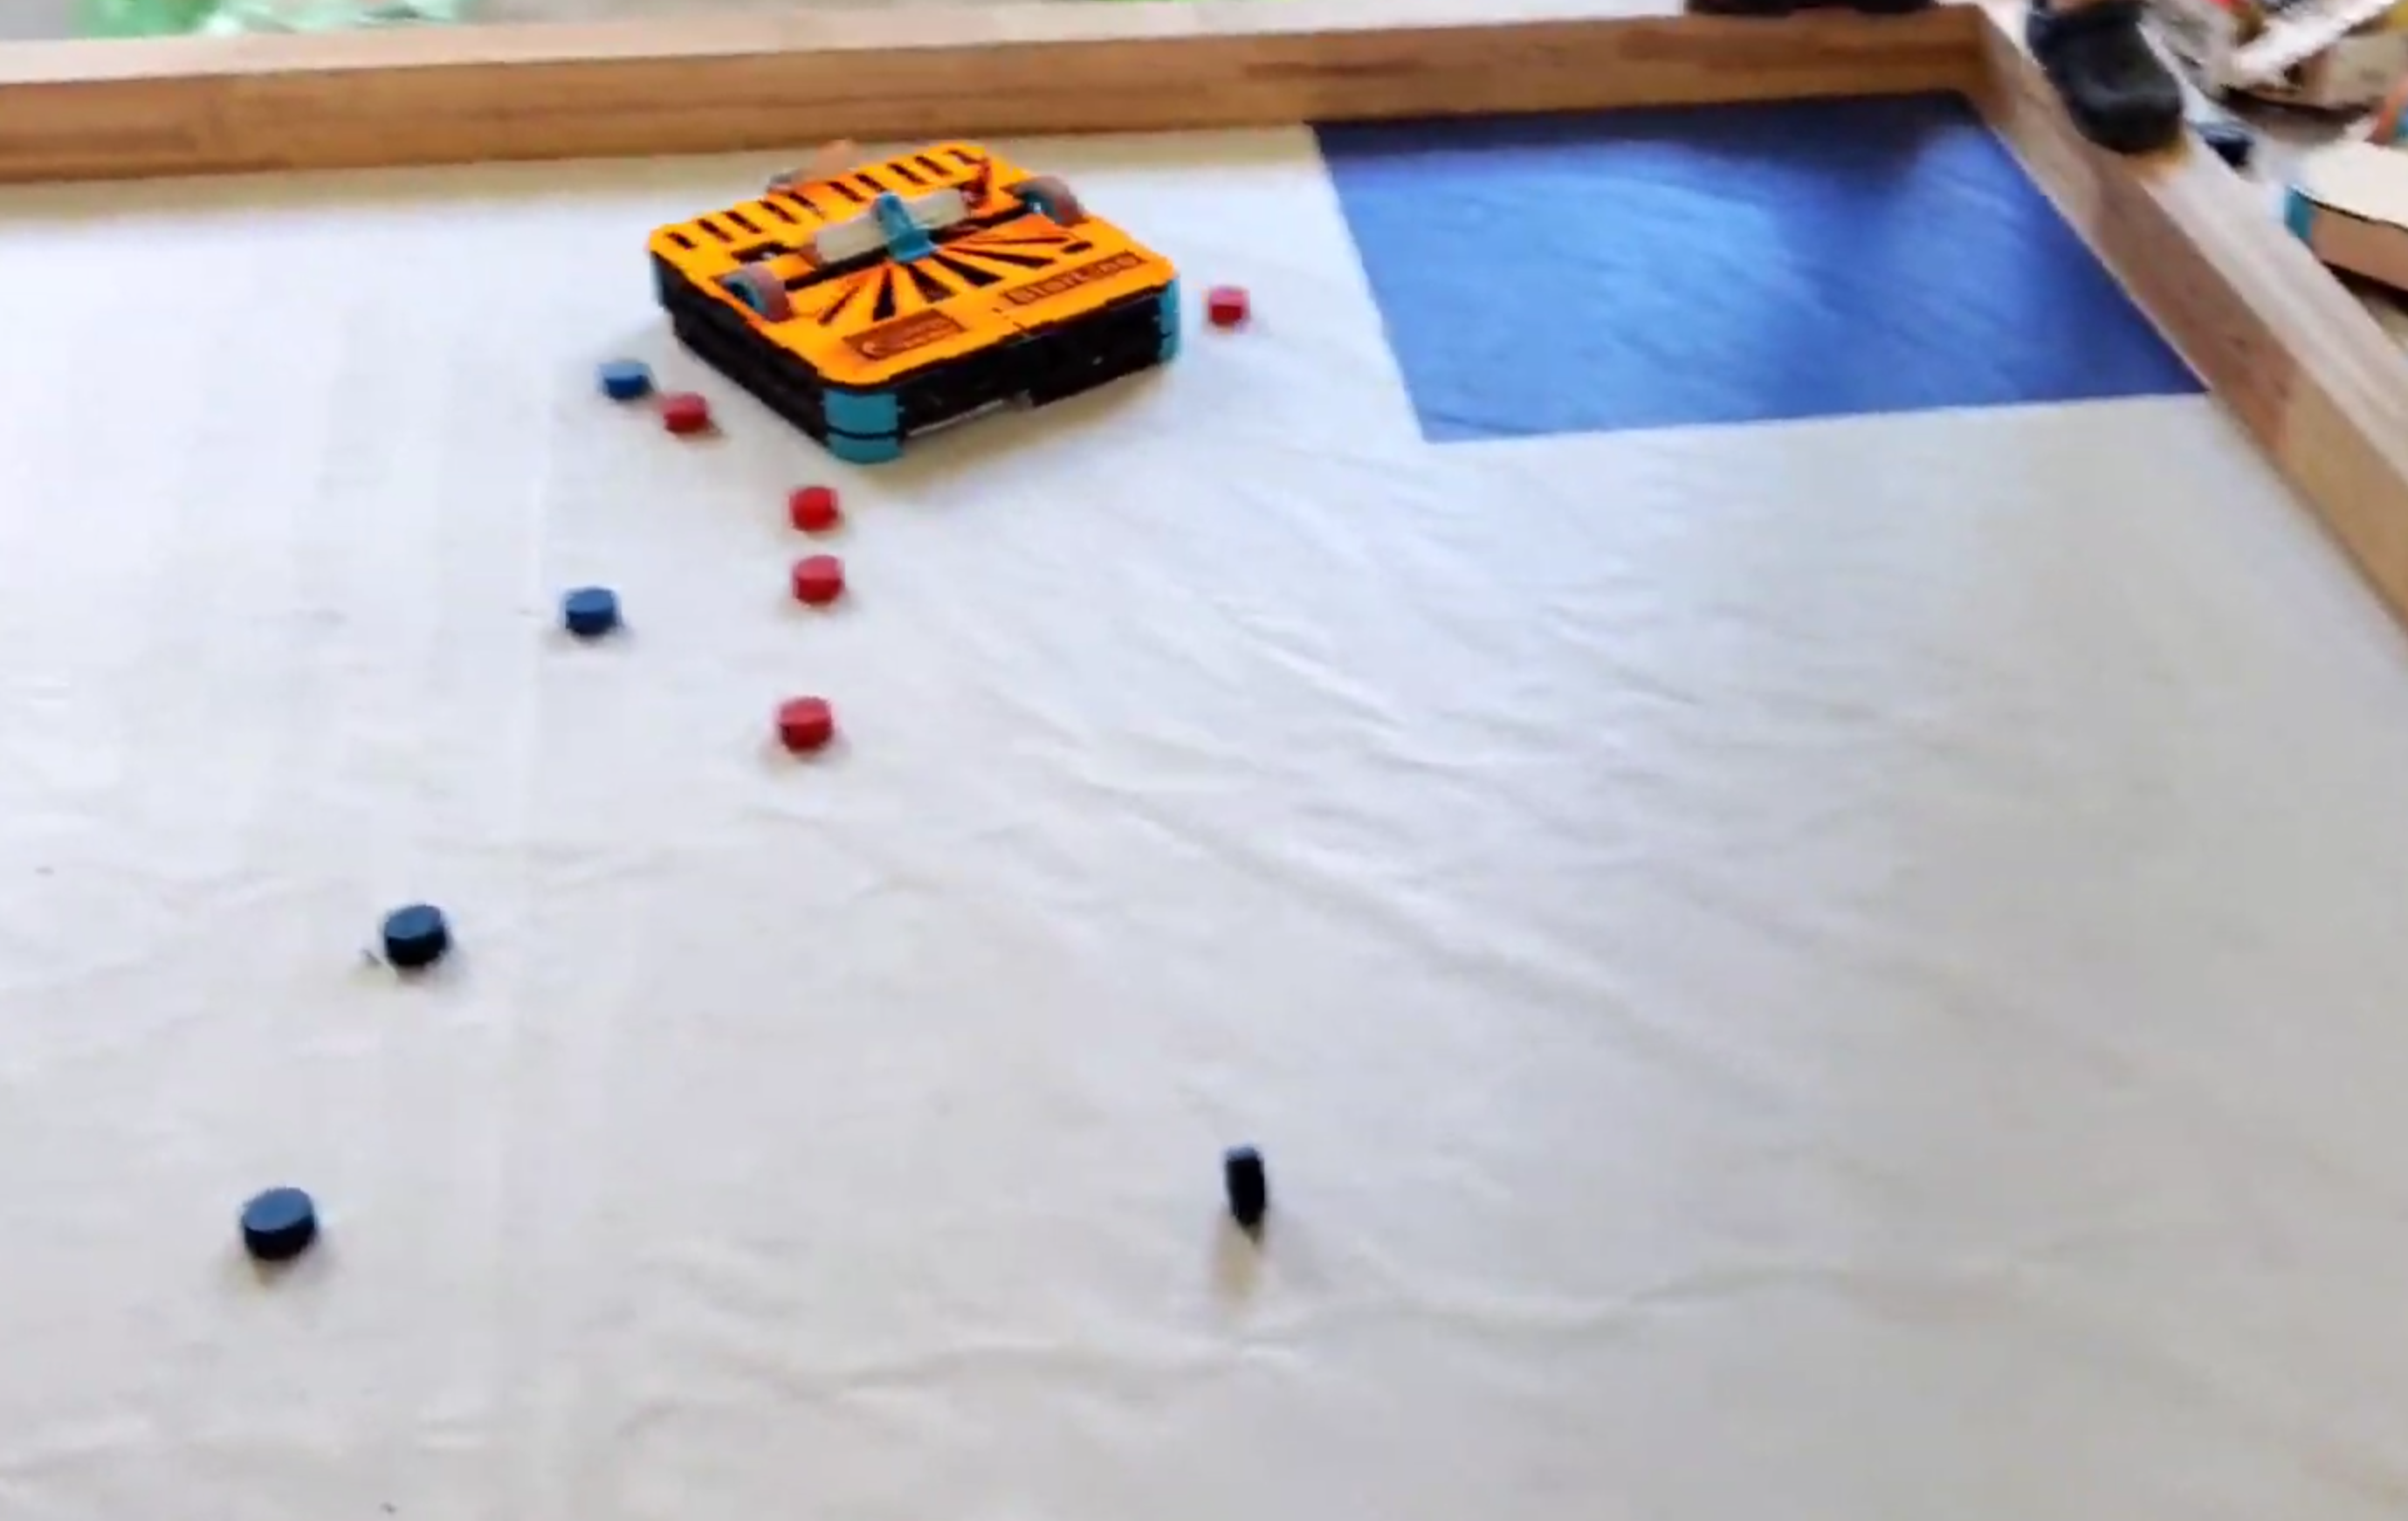blue_base: (1303, 93, 2208, 443)
blue_puck: (243, 1188, 317, 1258), (1226, 1144, 1268, 1225), (387, 906, 443, 960), (564, 587, 618, 636), (602, 356, 650, 400)
red_puck: (778, 699, 834, 748), (790, 555, 846, 599), (790, 485, 837, 529), (664, 389, 706, 433), (1205, 284, 1249, 322)
